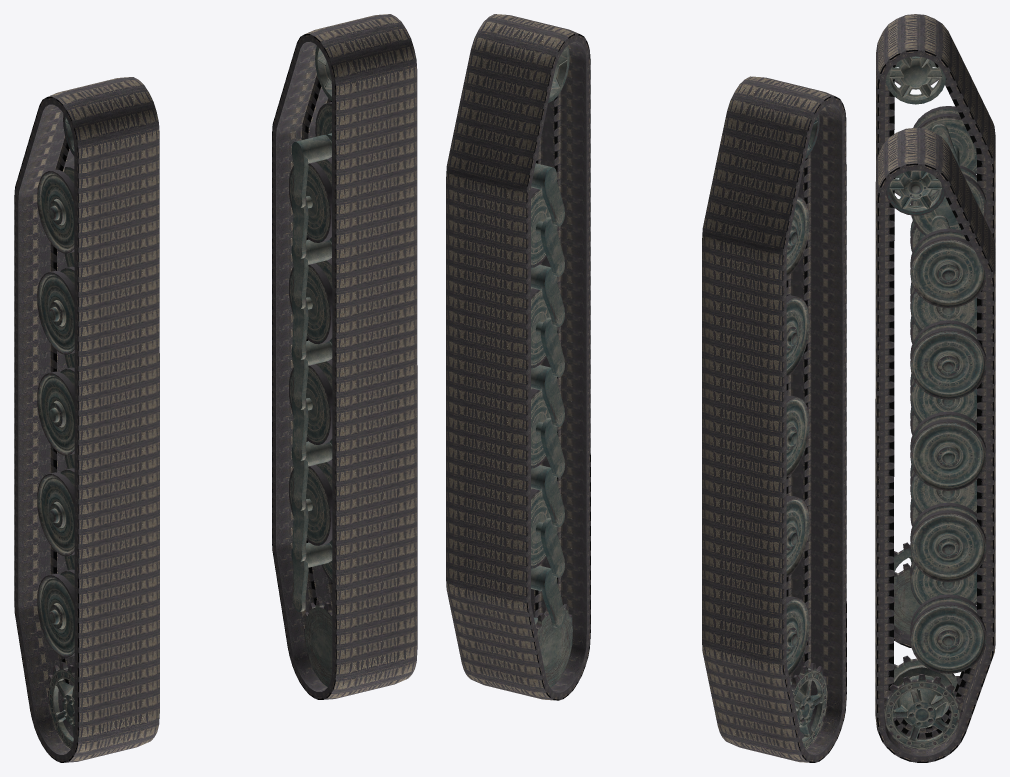
File: Chassis.glb
3 views of the same model, side by side, from view 1: azimuth 30°, elevation 25°; view 2: azimuth 150°, elevation 25°; view 3: azimuth 270°, elevation 25° (orthographic). The views are drawn at different scales.
Visible parts, largest first — view 1: set_0_group_0, set_1_group_0, set_3_group_0, set_2_group_0; view 2: set_0_group_0, set_1_group_0, set_3_group_0, set_2_group_0; view 3: set_3_group_0, set_1_group_0, set_0_group_0, set_2_group_0.
Boxes of the visible parts, x1,y1,x2,y2 form: set_0_group_0: (14, 77, 159, 762); set_1_group_0: (272, 14, 417, 699); set_3_group_0: (289, 46, 332, 686); set_2_group_0: (37, 114, 74, 748); set_0_group_0: (702, 76, 846, 762); set_1_group_0: (446, 14, 590, 700); set_3_group_0: (531, 46, 572, 687); set_2_group_0: (786, 113, 827, 748); set_3_group_0: (884, 170, 986, 749); set_1_group_0: (875, 127, 995, 762); set_0_group_0: (875, 14, 995, 647); set_2_group_0: (885, 56, 986, 634).
Size of the model in its own units: 3.76 by 7.06 by 1.28.
4 materials, 4 textured.
